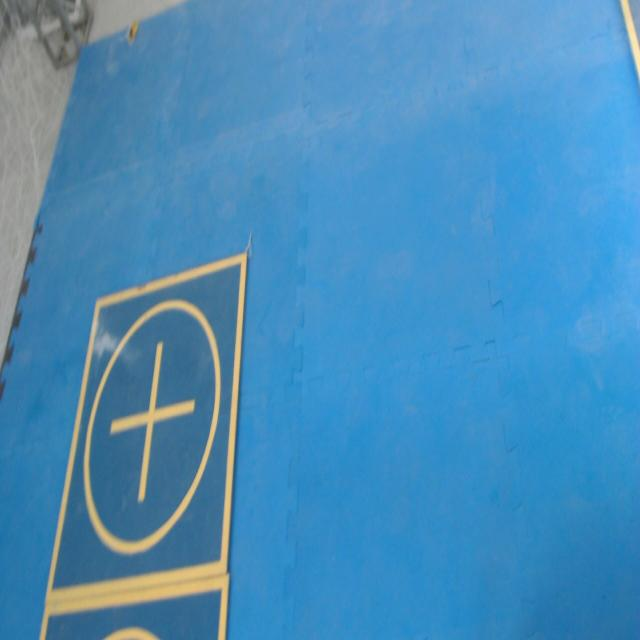base_pouso: (44, 257, 248, 598), (39, 571, 232, 639)
